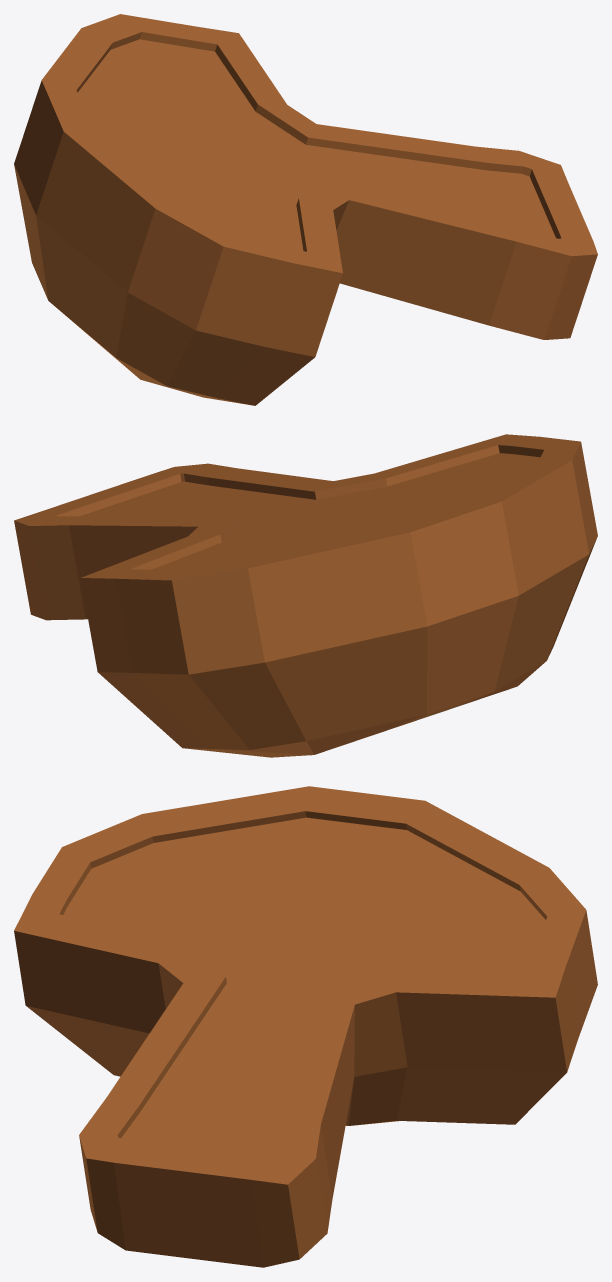
The model's file is mushroom.fbx.
3 views of the same model, one above another, from view 1: azimuth 30°, elevation 25°; view 2: azimuth 150°, elevation 25°; view 3: azimuth 270°, elevation 25° (orthographic). The views are drawn at different scales.
Parts seen in each view (by area): view 1: mushroom_slice_Plane; view 2: mushroom_slice_Plane; view 3: mushroom_slice_Plane.
Part boxes in pixels (box(x1,y1,x2,y2)): mushroom_slice_Plane: box(14, 14, 597, 405); mushroom_slice_Plane: box(14, 434, 597, 757); mushroom_slice_Plane: box(14, 786, 597, 1267).
Size of the model in its own units: 43.74 by 20.32 by 41.7.
